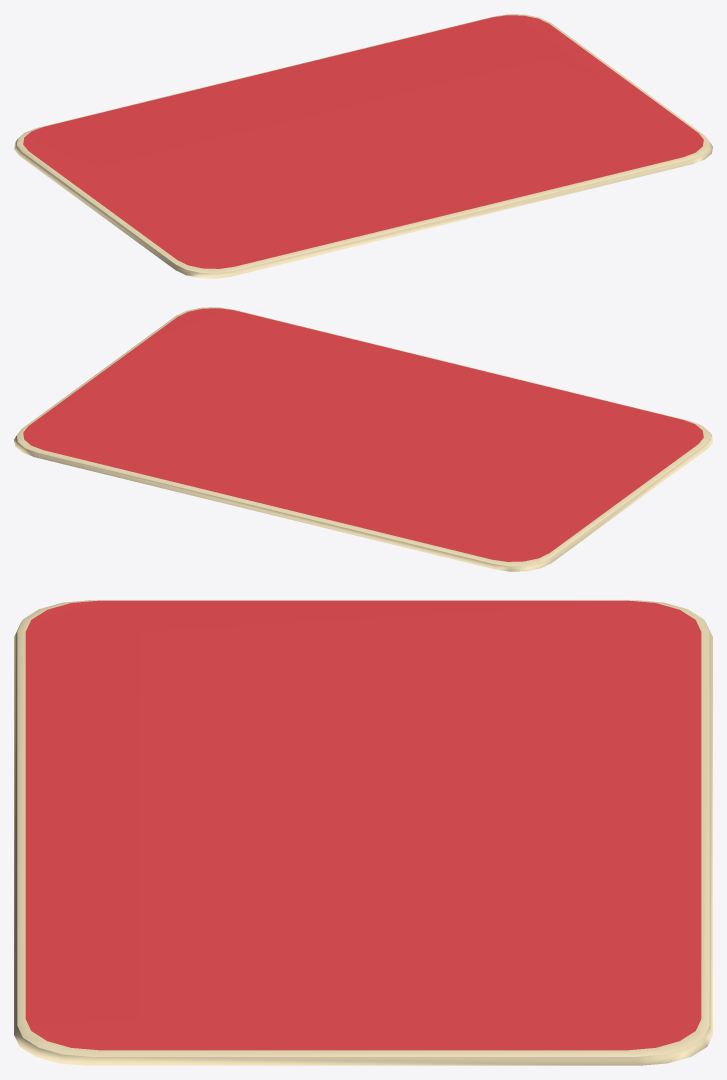
The model's file is tapete_natal_retangular_pacote.glb.
The picture shows the model from 3 angles, top to bottom: view 1: azimuth 30°, elevation 25°; view 2: azimuth 150°, elevation 25°; view 3: azimuth 270°, elevation 25°; orthographic projection. The views are drawn at different scales.
Visible parts, largest first — view 1: tapete_natal_retangular_pacote; view 2: tapete_natal_retangular_pacote; view 3: tapete_natal_retangular_pacote.
Part boxes in pixels (<box>): tapete_natal_retangular_pacote: <box>14,14,712,278</box>; tapete_natal_retangular_pacote: <box>14,307,712,571</box>; tapete_natal_retangular_pacote: <box>14,600,712,1065</box>.
Bounding box in the file's own units: 2.8 × 0.03 × 1.8.
1 material, 1 textured.
